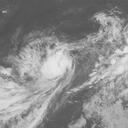cyclone: (15, 40, 78, 91)
